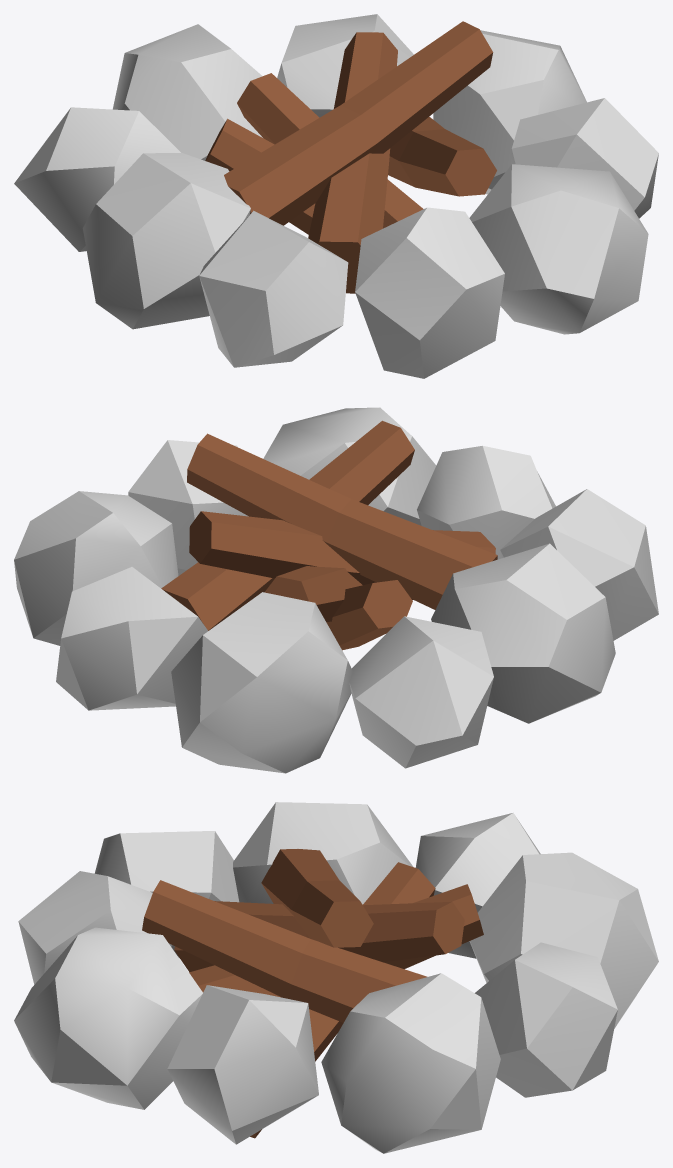
File: Campfire.glb
The picture shows the model from 3 angles, top to bottom: view 1: azimuth 30°, elevation 25°; view 2: azimuth 150°, elevation 25°; view 3: azimuth 270°, elevation 25°; orthographic projection.
Parts seen in each view (by area): view 1: Rocks, Cylinder; view 2: Rocks, Cylinder; view 3: Rocks, Cylinder.
Boxes of the visible parts, bbox=[...] form: Rocks: bbox=[14, 14, 658, 378]; Cylinder: bbox=[205, 21, 496, 293]; Rocks: bbox=[14, 407, 658, 773]; Cylinder: bbox=[161, 420, 497, 650]; Rocks: bbox=[14, 802, 658, 1153]; Cylinder: bbox=[142, 849, 483, 1138].
Bounding box in the file's own units: 1.98 × 0.892 × 2.07.
